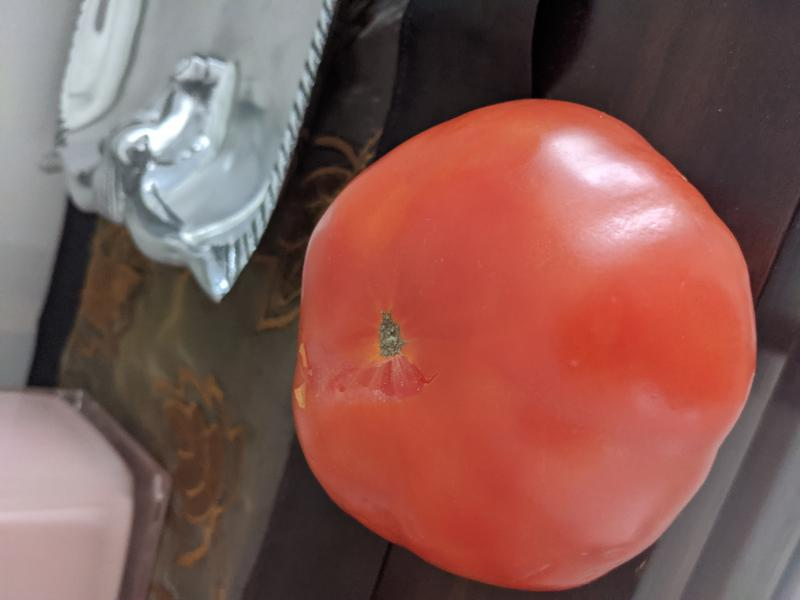tomato: (291, 96, 759, 592)
